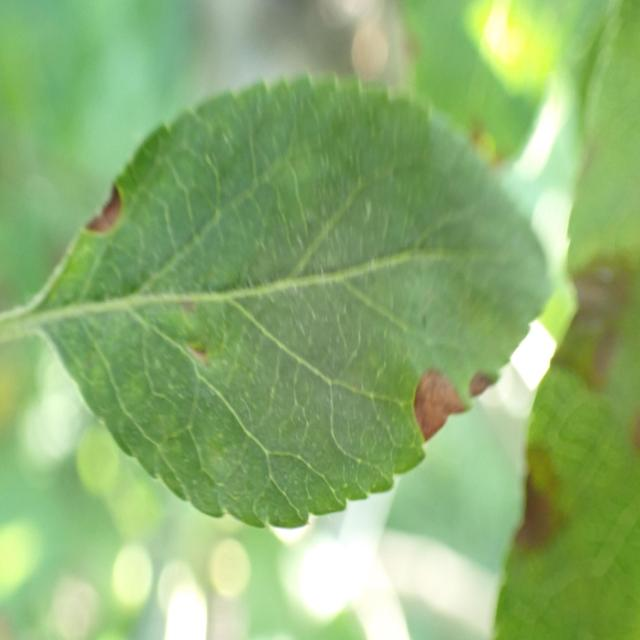frog-eye-leaf-spot: (35, 71, 562, 530)
